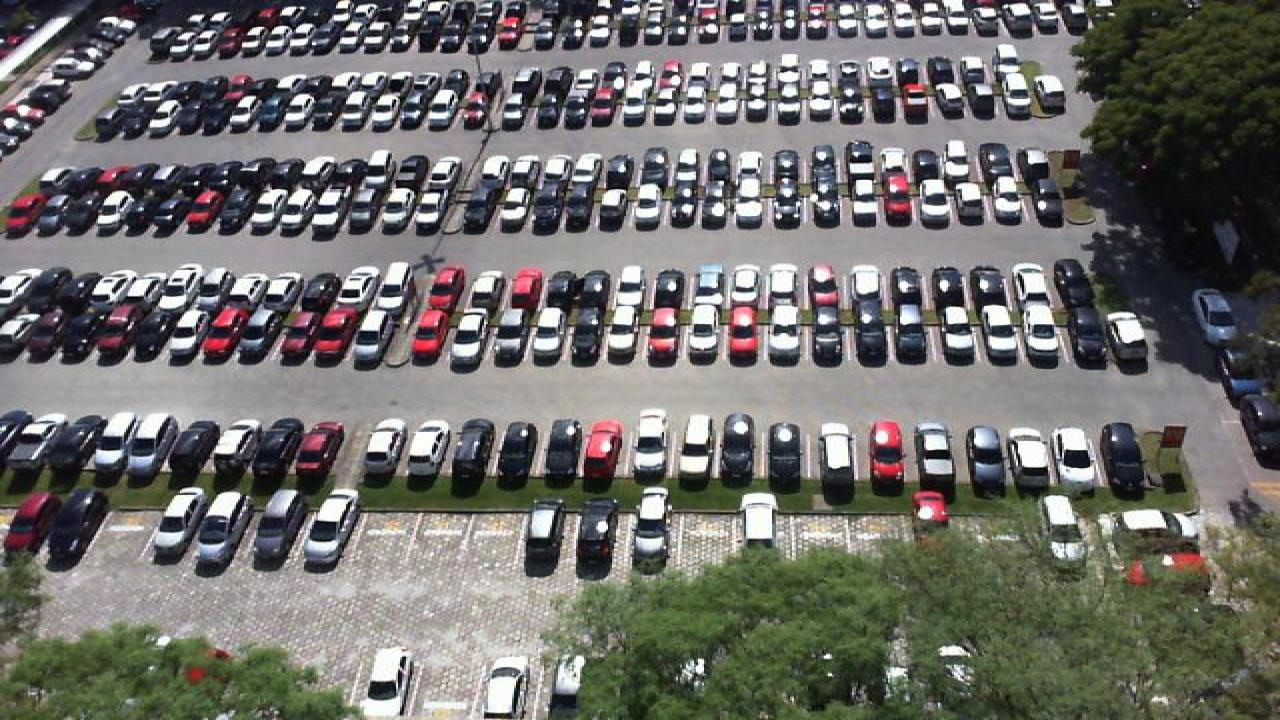Car: (8, 415, 80, 476), (60, 412, 126, 476), (48, 489, 108, 557), (358, 647, 414, 719), (204, 488, 258, 558), (302, 490, 358, 557), (0, 490, 62, 550), (1036, 493, 1090, 559), (166, 418, 222, 480), (210, 417, 264, 481), (290, 421, 344, 485), (1098, 420, 1146, 492), (1006, 425, 1056, 494), (1110, 506, 1200, 544), (158, 487, 212, 550), (256, 489, 306, 557), (1054, 424, 1102, 494), (1192, 287, 1252, 343), (252, 417, 304, 480), (360, 416, 408, 484), (122, 409, 170, 476), (478, 654, 528, 718), (404, 419, 454, 483), (964, 424, 1010, 493), (628, 408, 670, 482), (716, 410, 758, 484), (914, 422, 960, 489), (628, 487, 672, 556), (496, 417, 540, 485), (538, 417, 582, 485), (572, 499, 618, 564), (676, 412, 718, 482), (764, 422, 806, 489), (816, 421, 858, 488), (866, 420, 908, 487), (1206, 335, 1260, 387), (582, 421, 624, 486), (546, 655, 588, 719), (452, 418, 494, 482), (524, 499, 564, 562), (1228, 377, 1276, 429), (740, 493, 778, 551), (0, 410, 34, 468), (908, 489, 952, 531)
